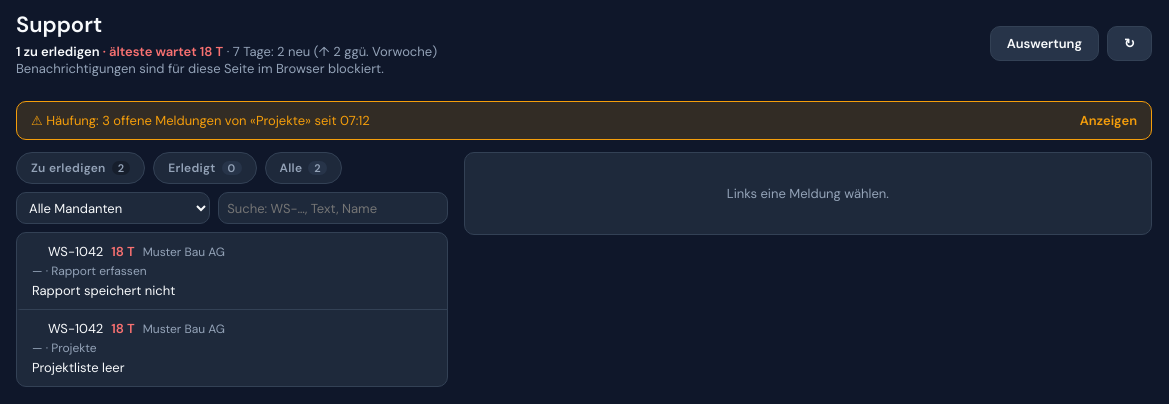
Scenario: SupportTicketsScreen — Posteingang › meldet eine Häufung und filtert auf Klick darauf
Click the button "Häufung: 3 offene Meldungen von «Projekte»".
click(208, 120)  # box x1=16 y1=101 x2=1152 y2=140
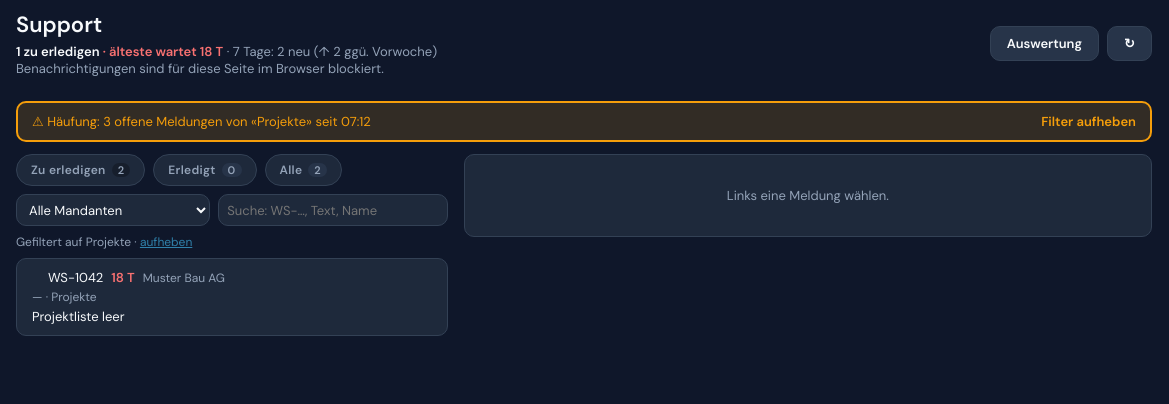
Expected: the text "Projektliste leer" is shown, x1=32 y1=308 x2=124 y2=325
Now the list item "Rapport speichert nicht" is gone
